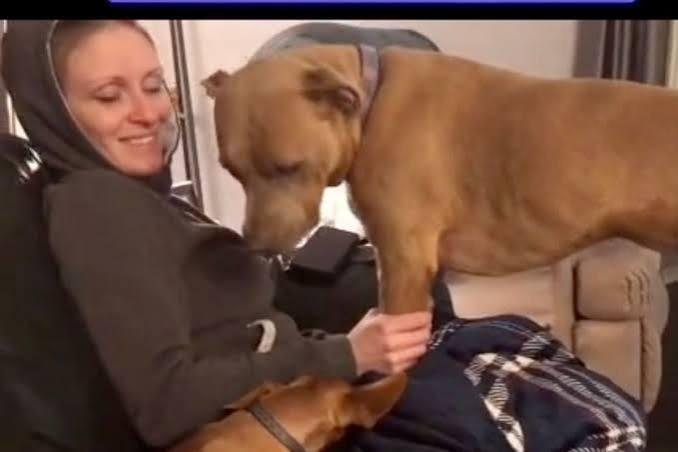adult_dog: (197, 41, 678, 319), (160, 372, 409, 452)
non-dog: (0, 18, 433, 446)
